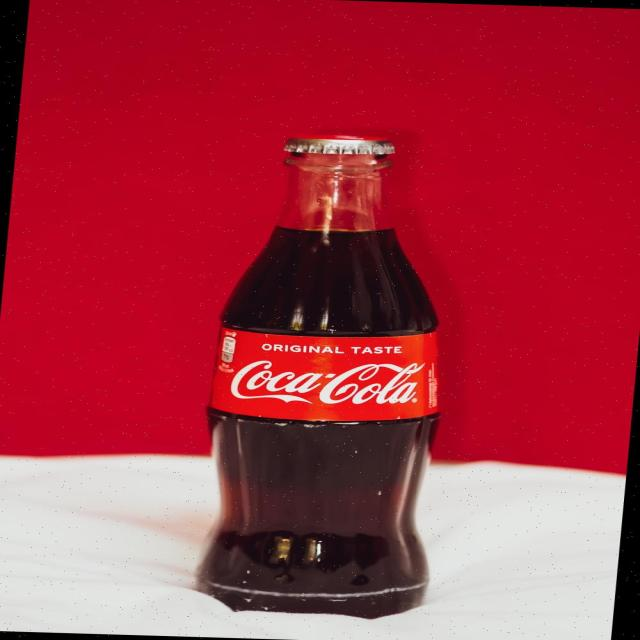coca-cola: (171, 124, 490, 631)
